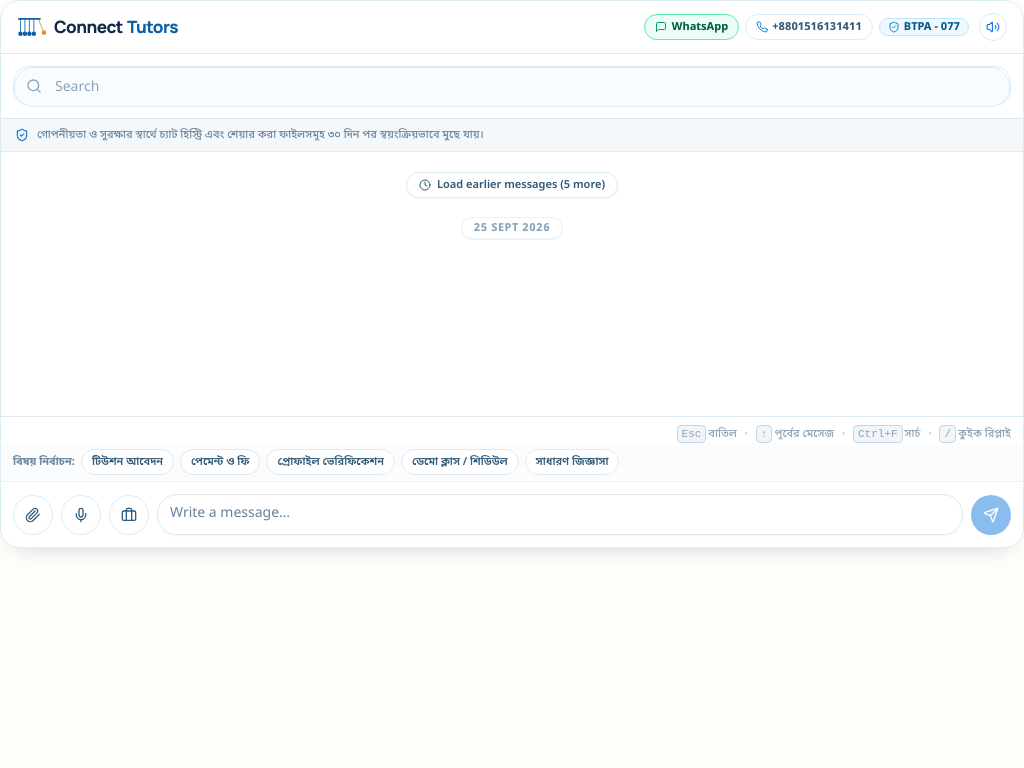
the Tutor's Admin chat panel › paginates messages when exceeding page size and reveals earlier messages on click
The image size is (1024, 768).
Expected: the text "Load earlier messages (5 more)" is shown, [437, 177, 605, 193]
Expected: the text "Message number 1" is not shown
Click the button "Load earlier messages (5 more)": click(512, 185) [406, 172, 618, 198]
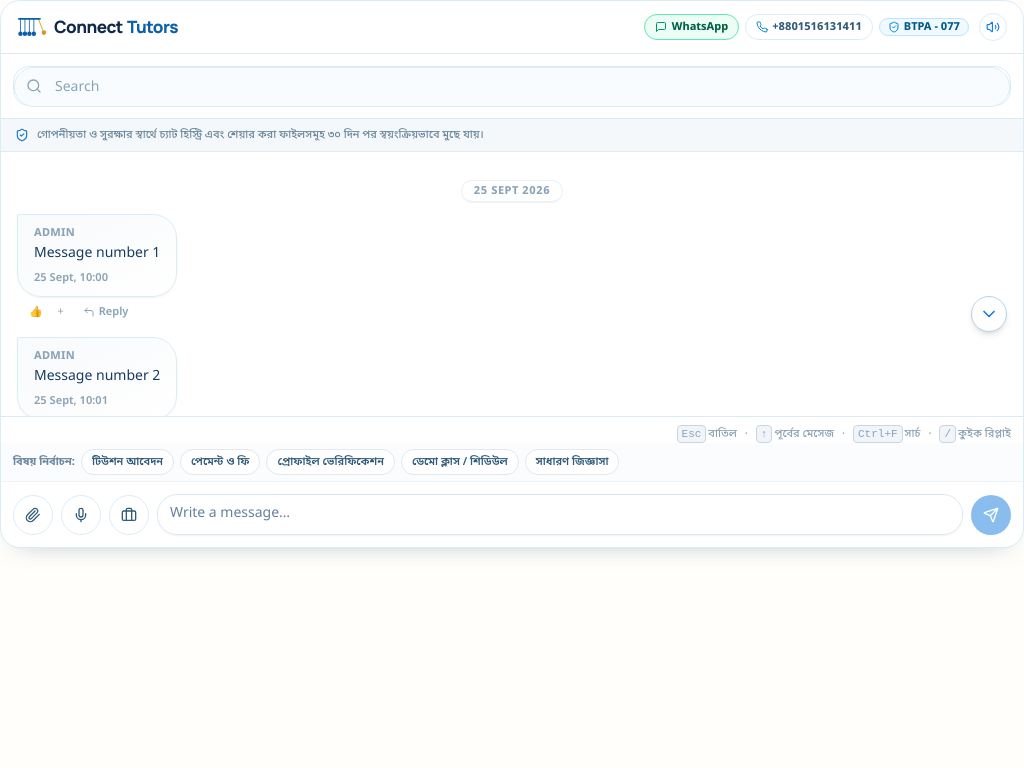
Expected: the text "Message number 1" is shown, [34, 244, 160, 263]
Expected: the button "Load earlier messages" is gone
